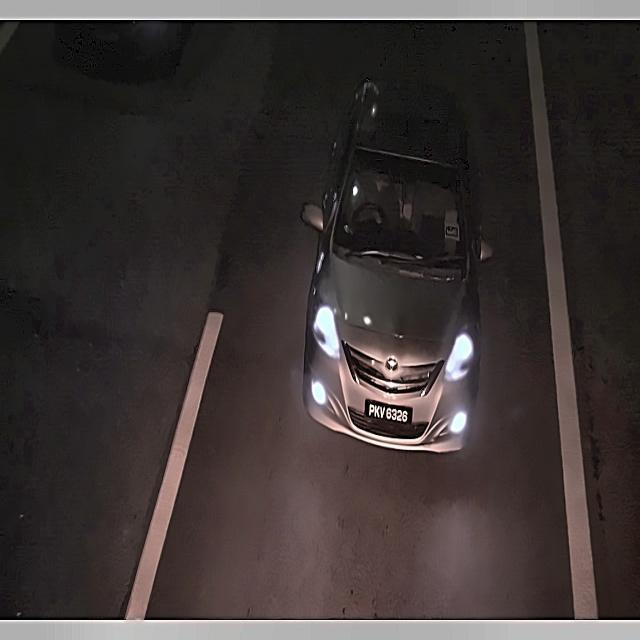car: (362, 395, 417, 432)
